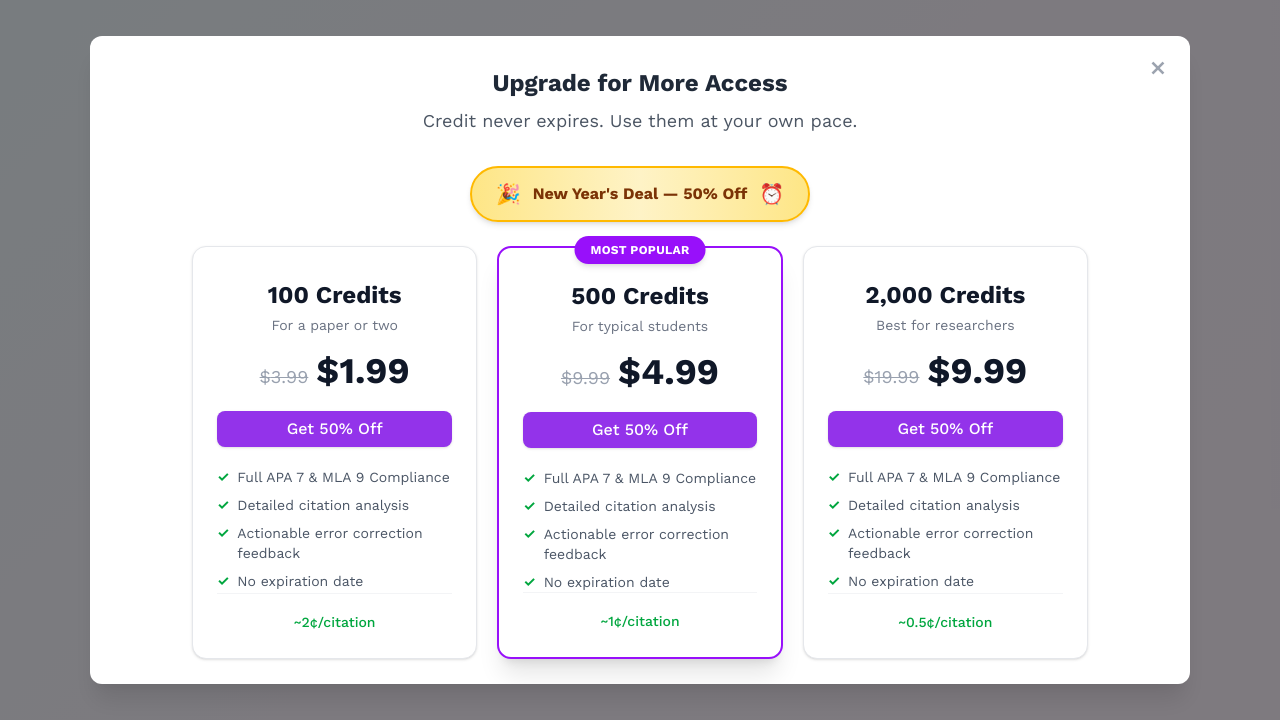
Test: UpgradeModal › should show success state when checkout completes
This screenshot has width=1280, height=720.
Expected: the heading "Upgrade for More Access" is shown, x1=492 y1=69 x2=788 y2=97
Click the button "Get 50% Off" below "1.99".
click(335, 429)  # box x1=217 y1=411 x2=452 y2=447
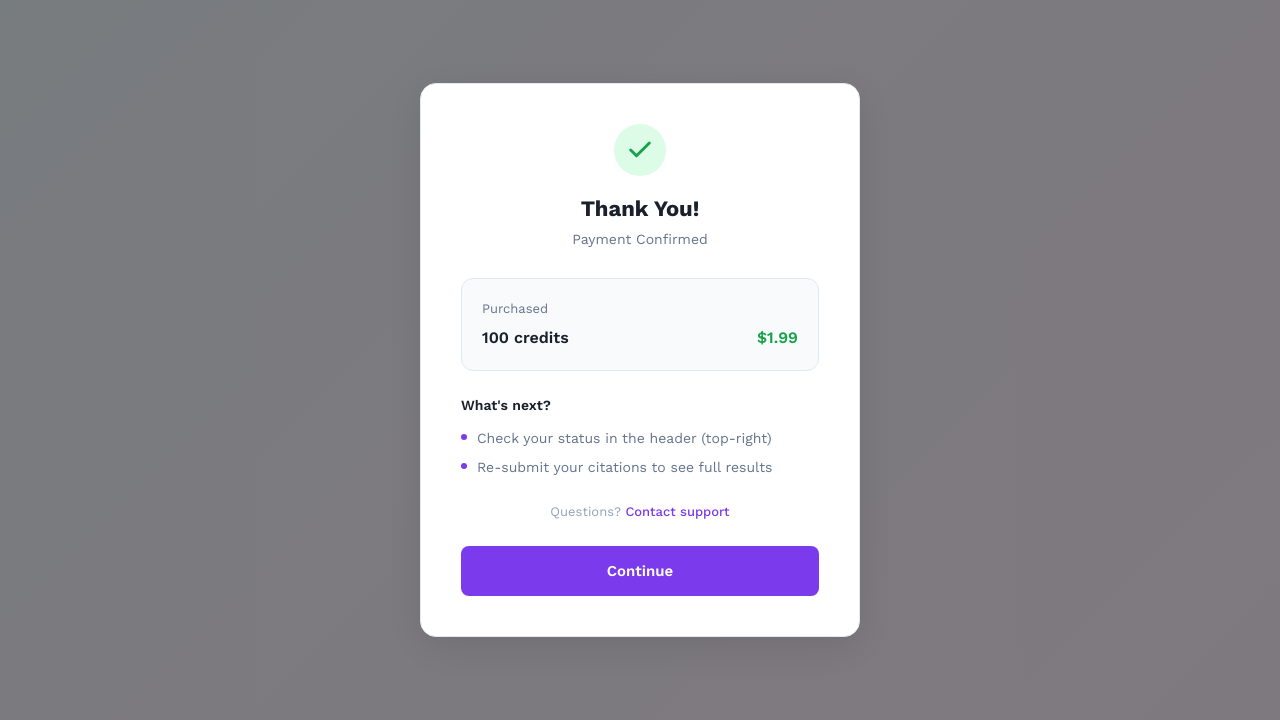
Expected: the element with test id "checkout-success" is shown, x1=420 y1=83 x2=860 y2=637
Expected: the heading "Thank You!" is shown, x1=581 y1=196 x2=699 y2=221
Expected: the button with test id "continue-button" is shown, x1=461 y1=546 x2=819 y2=596
